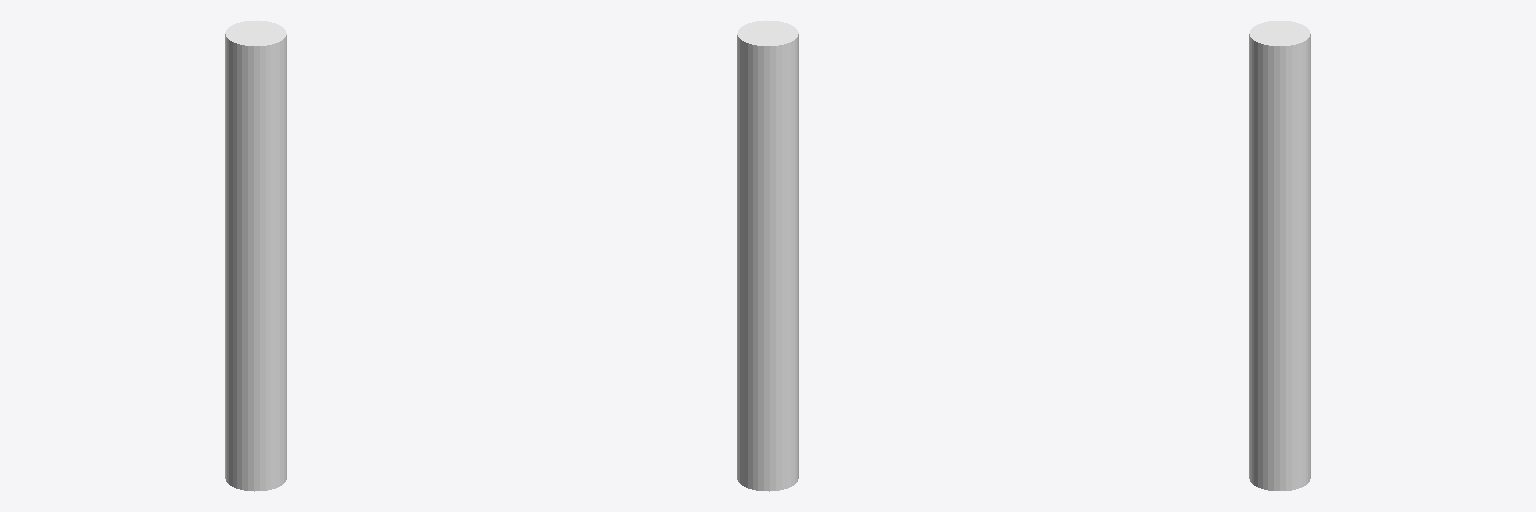
The robot description file, URDF, robot "wood":
<?xml version="1.0" ?>
<robot name="wood">

<material name="silver">
  <color rgba="0.700 0.700 0.700 1.000"/>
</material>

<link name="base_link">
  <inertial>
    <origin xyz="0.0 0.0 0.0" rpy="0 0 0"/>
    <mass value="580.41412851811845"/>
    <inertia ixx="7.248282570362268" iyy="486.84297930933906" izz="486.84297930933934" ixy="0.0" iyz="0.0" ixz="0.0"/>
    <dynamics friction=".3" damping=".1"/>
  </inertial>
  
  <visual>
    <origin xyz="0 0 0" rpy="0 0 0"/>
    <geometry>
      <mesh filename="meshes/wood3.obj" scale=".001 .001 .001"/>

      <!--cylinder length="4" radius=".25"/-->
    </geometry>
    <material name="white">
            <color rgba="1 1 1 1"/>
         <specular rgb="0 0 0"/>
    </material>
  </visual>
  
  <collision concave="yes">
    <origin xyz="0 0 0" rpy="0 0 0"/>
    <geometry>
      <cylinder length="4" radius=".25"/>
      <!--mesh filename="meshes/wood3.obj" scale=".001 .001 .001"/-->
    </geometry>
  </collision>

  <contact>
    <!--lateral_friction value=".3"/-->
    <rolling_friction value=".05"/>
    <!--contact_cfm value="11"/-->
    <!--contact_erp value="1"/-->
    <!--stiffness value="3000000"/-->
    <!--damping value="100000"/-->
  </contact>

</link>

</robot>

--- Render facts (derived) ---
The picture shows the robot from 3 angles, left to right: view 1: azimuth 30°, elevation 25°; view 2: azimuth 150°, elevation 25°; view 3: azimuth 270°, elevation 25°; orthographic projection.
Robot: wood — 1 links, 0 joints (none); root link base_link; default pose: all joints at 0.
Visible links, largest first — view 1: base_link; view 2: base_link; view 3: base_link.
Boxes of the visible links, x1,y1,x2,y2 form: base_link: (225, 20, 286, 491); base_link: (737, 20, 798, 491); base_link: (1249, 21, 1310, 490).
Bounding box of the posed robot: 0.5 × 0.5 × 4 m (x, y, z).
Meshes: 1 distinct files referenced, 1 mesh visuals loaded (1 OBJ).
